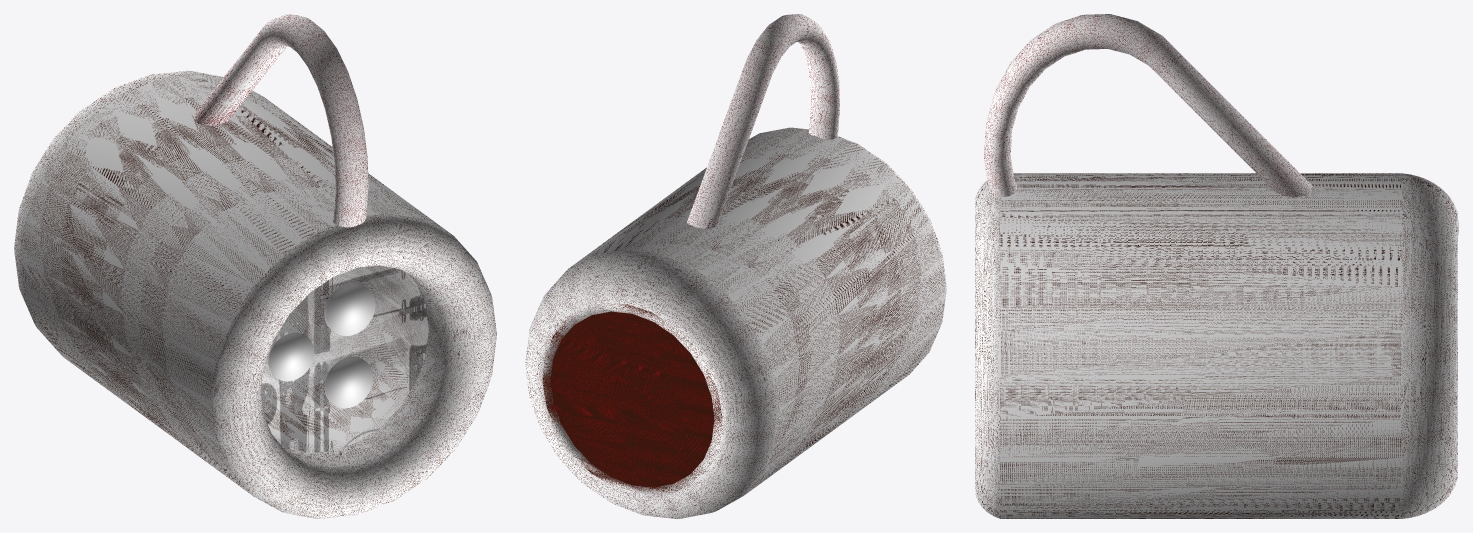
File: model_scale.obj
3 renders of one model, left to right at view 1: azimuth 30°, elevation 25°; view 2: azimuth 150°, elevation 25°; view 3: azimuth 270°, elevation 25°, orthographic. The views are drawn at different scales.
Visible parts, largest first — view 1: mesh1_mesh1-geometry, mesh2_mesh2-geometry; view 2: mesh1_mesh1-geometry, mesh3_mesh3-geometry, mesh2_mesh2-geometry; view 3: mesh1_mesh1-geometry, mesh2_mesh2-geometry.
Boxes of the visible parts, <box> form: mesh1_mesh1-geometry: <box>14,70,496,518</box>; mesh2_mesh2-geometry: <box>193,14,368,227</box>; mesh1_mesh1-geometry: <box>525,127,946,518</box>; mesh3_mesh3-geometry: <box>542,303,722,493</box>; mesh2_mesh2-geometry: <box>687,14,839,228</box>; mesh1_mesh1-geometry: <box>975,173,1458,518</box>; mesh2_mesh2-geometry: <box>984,14,1313,197</box>.
Size of the model in its own units: 0.0725 by 0.1121 by 0.1011.
